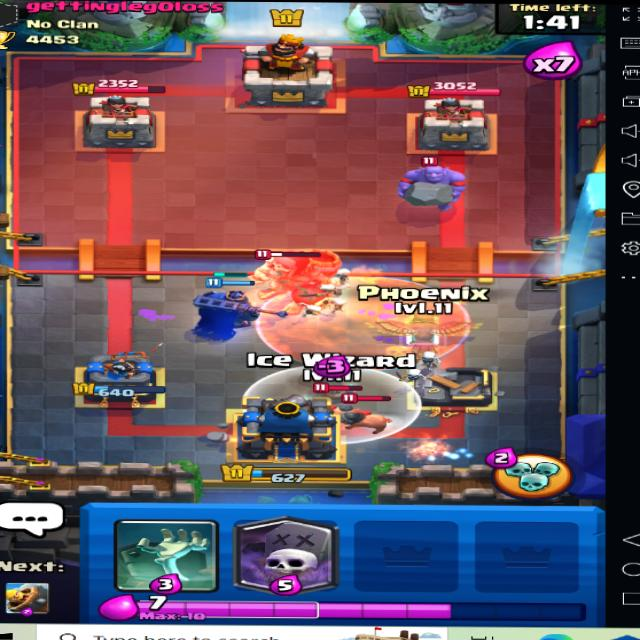bowler: (391, 156, 470, 212)
giant-skeleton: (229, 245, 351, 309)
royal-hogs: (338, 393, 401, 430), (316, 386, 374, 414)
